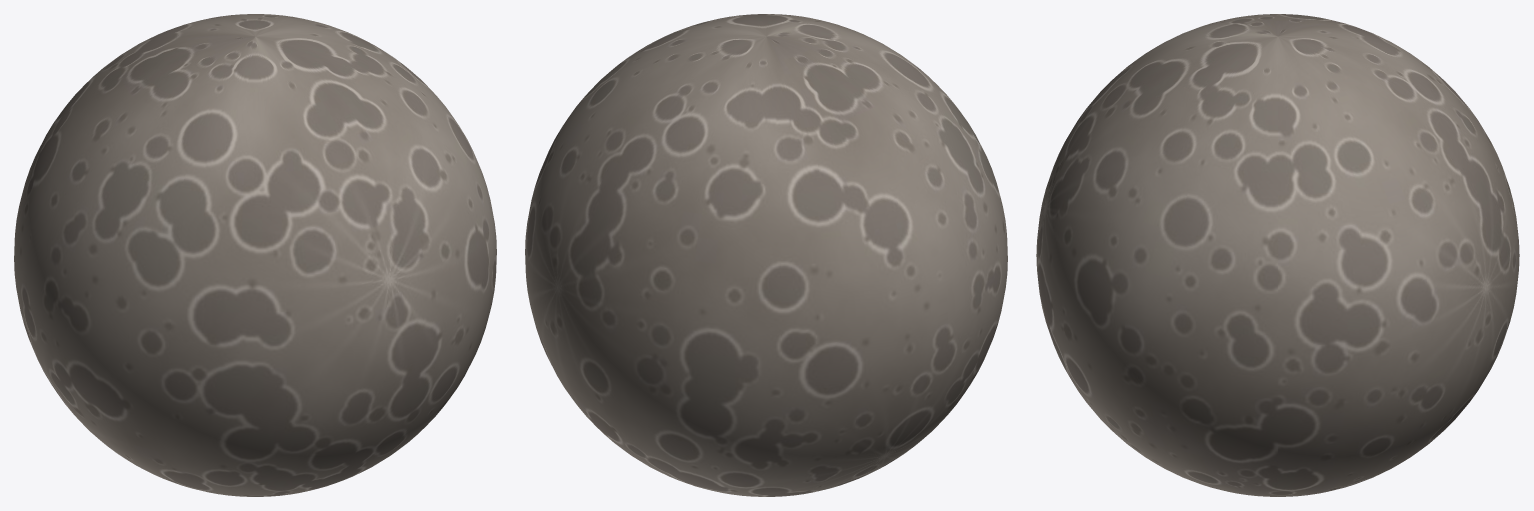
File: planet_mercury.glb
3 views of the same model, side by side, from view 1: azimuth 30°, elevation 25°; view 2: azimuth 150°, elevation 25°; view 3: azimuth 270°, elevation 25° (orthographic).
Visible parts, largest first — view 1: planet_mercury; view 2: planet_mercury; view 3: planet_mercury.
Part boxes in pixels (box(x1,y1,x2,y2)): planet_mercury: box(14, 14, 496, 496); planet_mercury: box(525, 14, 1007, 496); planet_mercury: box(1036, 14, 1519, 496).
Size of the model in its own units: 1 by 1 by 1.
1 material, 1 textured.
